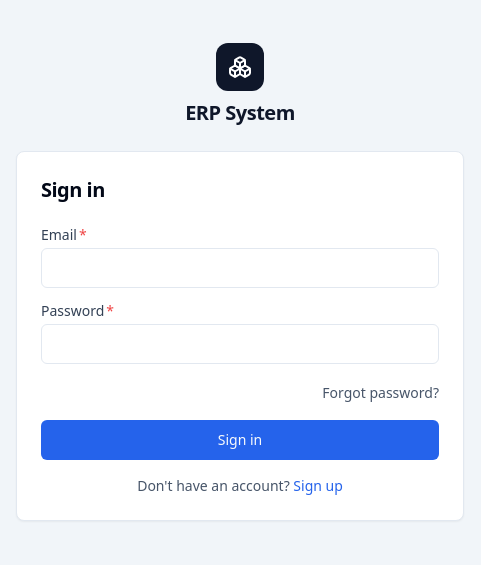
<Login /> › surfaces the server's rejection next to the form
The width and height of the screenshot is (481, 565).
Type "ada@erp.test" into the field labelled "Email*". click: {"x": 240, "y": 268}
box: left=41, top=248, right=439, bottom=288
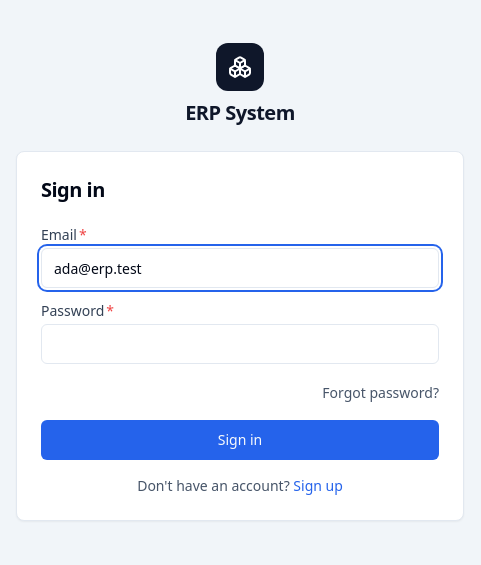
Type "wrong-password" into the password field labelled "Password*". click: {"x": 240, "y": 344}
box: left=41, top=324, right=439, bottom=364
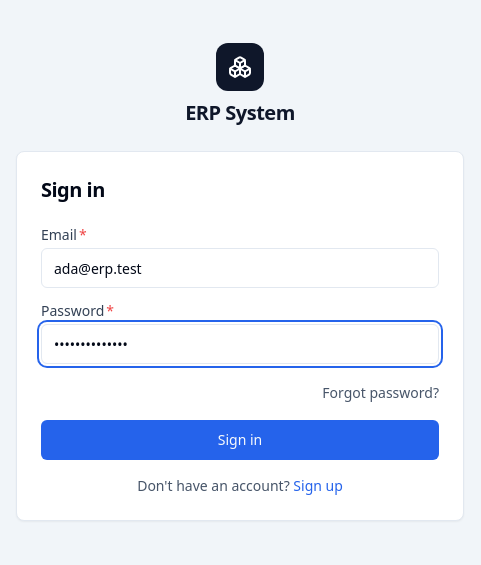
Click the button "Sign in". click: {"x": 240, "y": 440}
box: left=41, top=420, right=439, bottom=460
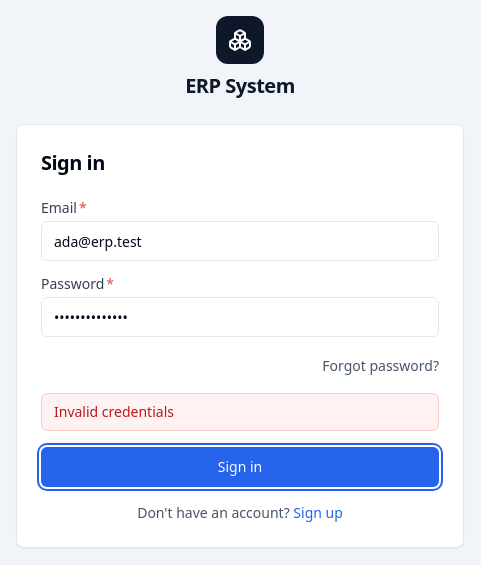
Expected: the message reads "Invalid credentials", left=54, top=402, right=174, bottom=421
